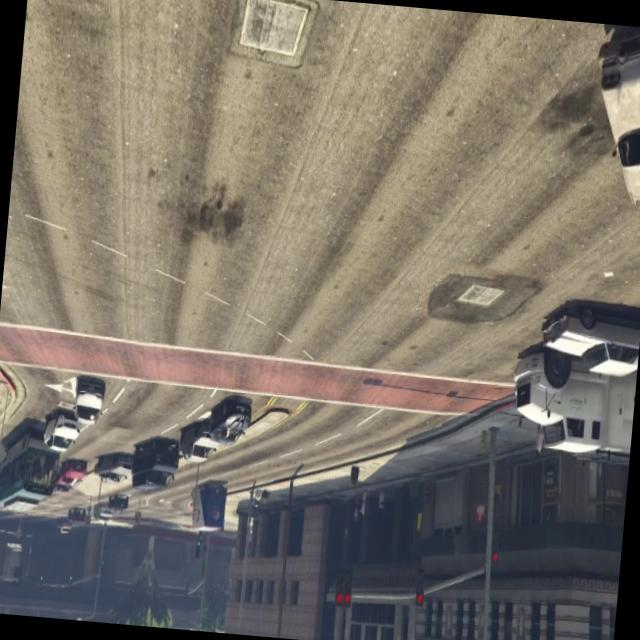Red-Signal: (328, 549, 358, 615), (411, 556, 432, 615), (489, 520, 506, 567)
